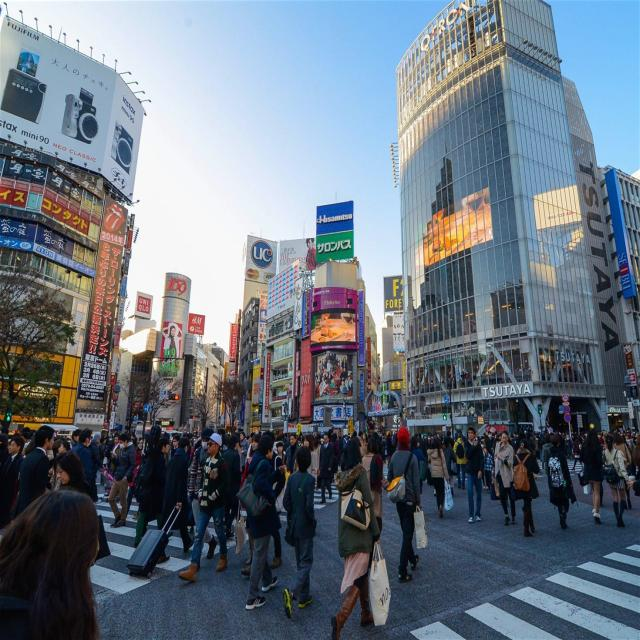body: (1, 422, 640, 498), (0, 488, 102, 639), (280, 238, 362, 400), (329, 434, 391, 640), (235, 434, 287, 611), (176, 432, 232, 584), (385, 425, 430, 585), (280, 446, 319, 621), (240, 429, 286, 577), (156, 435, 194, 563), (131, 434, 172, 552), (9, 423, 56, 524), (186, 426, 218, 572), (8, 437, 45, 549), (361, 434, 390, 570), (233, 432, 262, 566), (545, 433, 580, 531), (508, 436, 541, 538), (601, 433, 632, 528), (576, 426, 605, 526), (107, 432, 136, 529), (492, 429, 518, 527), (0, 435, 26, 532), (70, 427, 99, 504), (463, 427, 486, 524), (222, 434, 243, 540), (426, 435, 451, 518), (55, 449, 93, 499), (582, 431, 604, 508), (612, 431, 632, 511), (125, 437, 144, 518), (160, 314, 187, 368), (317, 432, 336, 505), (88, 432, 106, 504), (409, 436, 427, 506), (52, 447, 77, 489), (295, 433, 318, 477), (94, 433, 110, 491), (453, 432, 468, 491), (442, 438, 457, 496), (281, 432, 301, 475), (541, 432, 555, 491), (514, 430, 536, 456), (483, 445, 494, 493), (570, 432, 582, 472), (272, 440, 286, 472), (169, 434, 181, 460), (111, 434, 120, 459)
